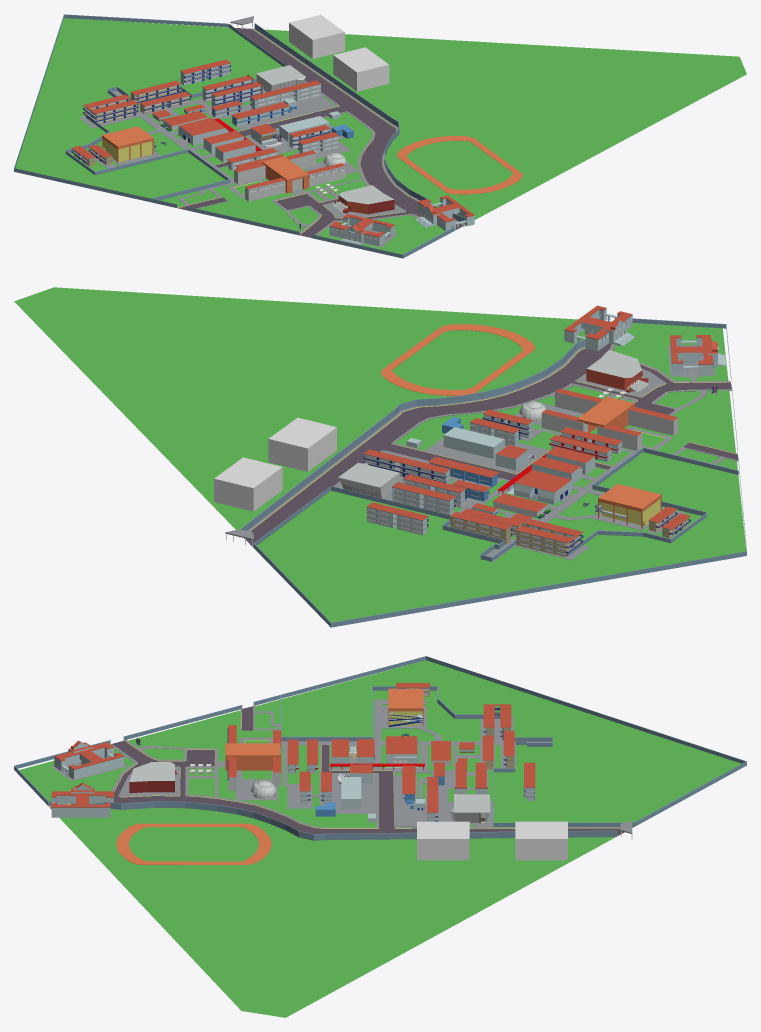
The model's file is MiniQCI(VBlender).fbx.
3 renders of one model, top to bottom at view 1: azimuth 30°, elevation 25°; view 2: azimuth 150°, elevation 25°; view 3: azimuth 270°, elevation 25°, orthographic. The views are drawn at different scales.
Parts seen in each view (by area): view 1: Plane, Plane.001, Proulex(backup), Edificio NTLP; view 2: Plane, Plane.001, Proulex(backup), Edificio NTLP; view 3: Plane, Plane.001, Proulex(backup).
Part boxes in pixels (x1,y1,x2,y2): Plane: [14, 14, 746, 258]; Plane.001: [71, 65, 394, 246]; Proulex(backup): [415, 195, 474, 231]; Edificio NTLP: [180, 59, 231, 85]; Plane: [14, 287, 746, 627]; Plane.001: [338, 334, 725, 556]; Proulex(backup): [564, 305, 635, 350]; Edificio NTLP: [366, 502, 428, 535]; Plane: [14, 656, 746, 1017]; Plane.001: [54, 683, 514, 823]; Proulex(backup): [51, 782, 113, 817].
Size of the model in its own units: 71290 by 2091 by 61740.
